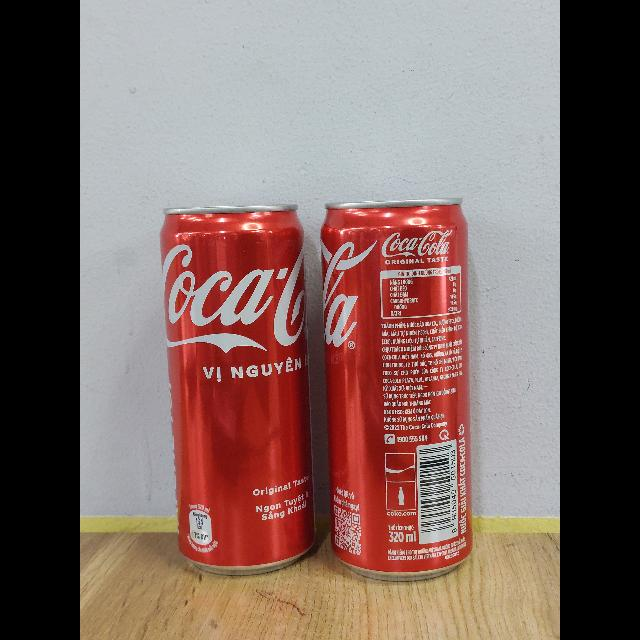coca_cola: (320, 201, 474, 583), (160, 206, 316, 576)
